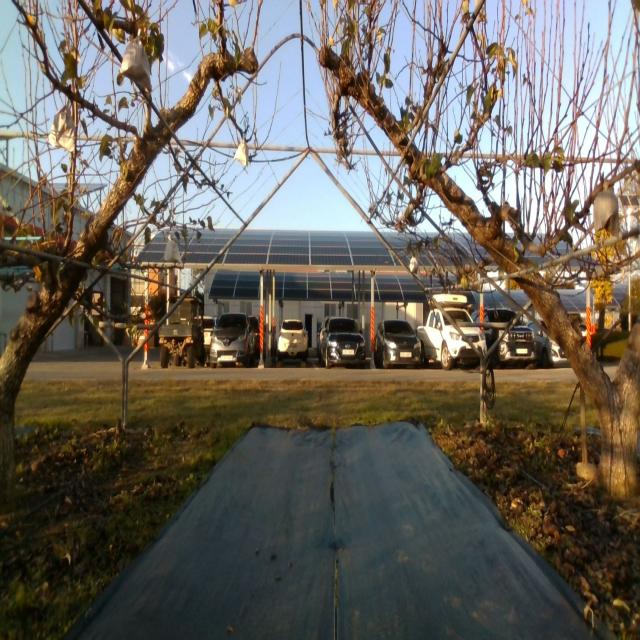pearbags: (120, 38, 151, 92), (593, 190, 620, 237), (49, 106, 75, 154), (164, 240, 182, 264), (234, 140, 248, 167)
